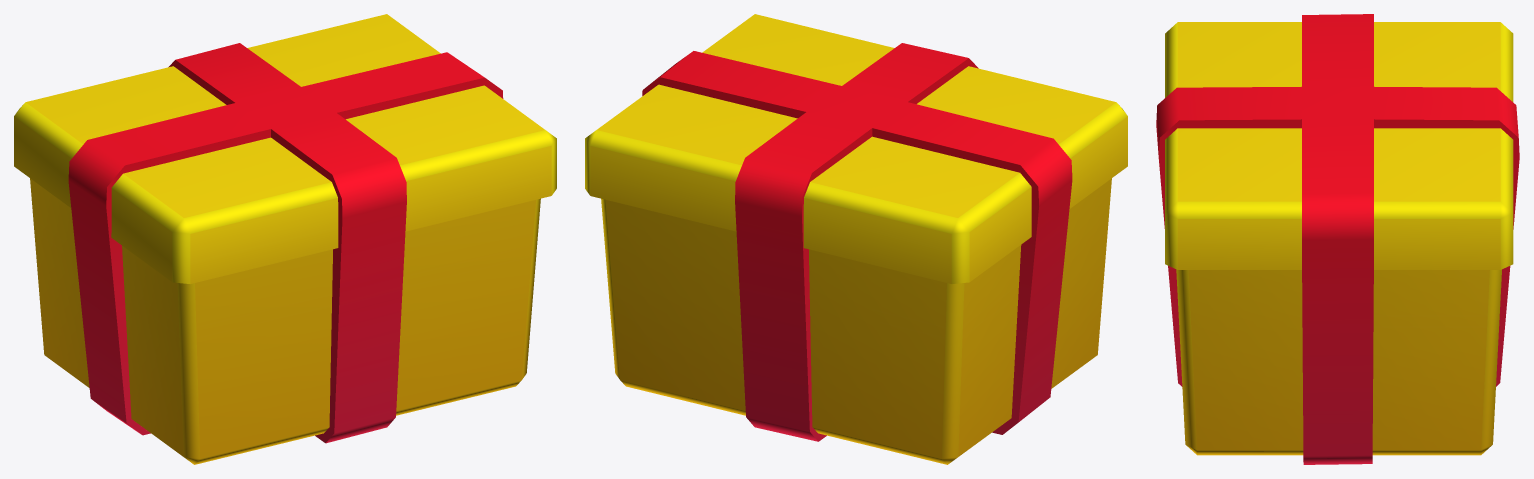
File: giftbox_050.fbx
3 renders of one model, left to right at view 1: azimuth 30°, elevation 25°; view 2: azimuth 150°, elevation 25°; view 3: azimuth 270°, elevation 25°, orthographic.
Parts seen in each view (by area): view 1: giftbox_050; view 2: giftbox_050; view 3: giftbox_050.
Boxes of the visible parts, box(x1,y1,x2,y2) form: giftbox_050: box(14, 14, 556, 464); giftbox_050: box(585, 14, 1127, 464); giftbox_050: box(1156, 14, 1519, 464).
Size of the model in its own units: 285 by 220 by 188.
